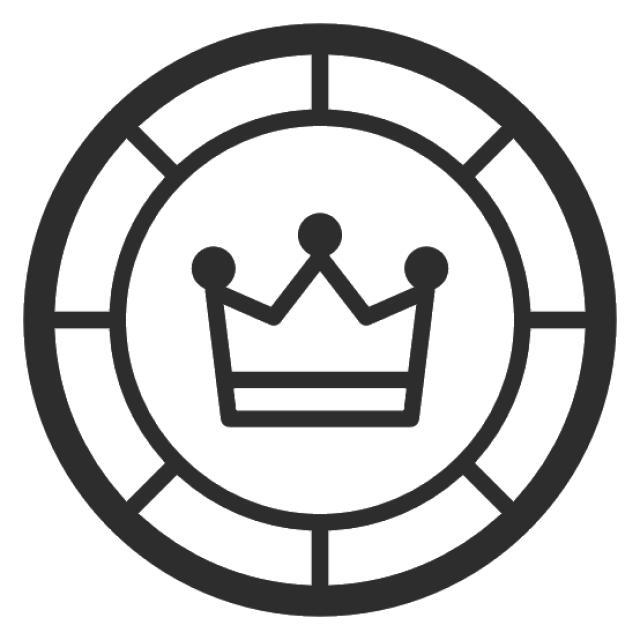coin: (15, 14, 626, 631)
